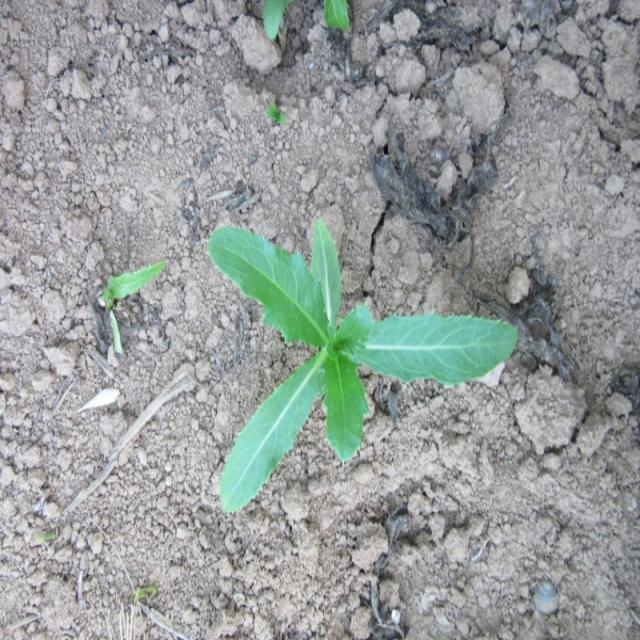cs: (208, 218, 517, 514)
